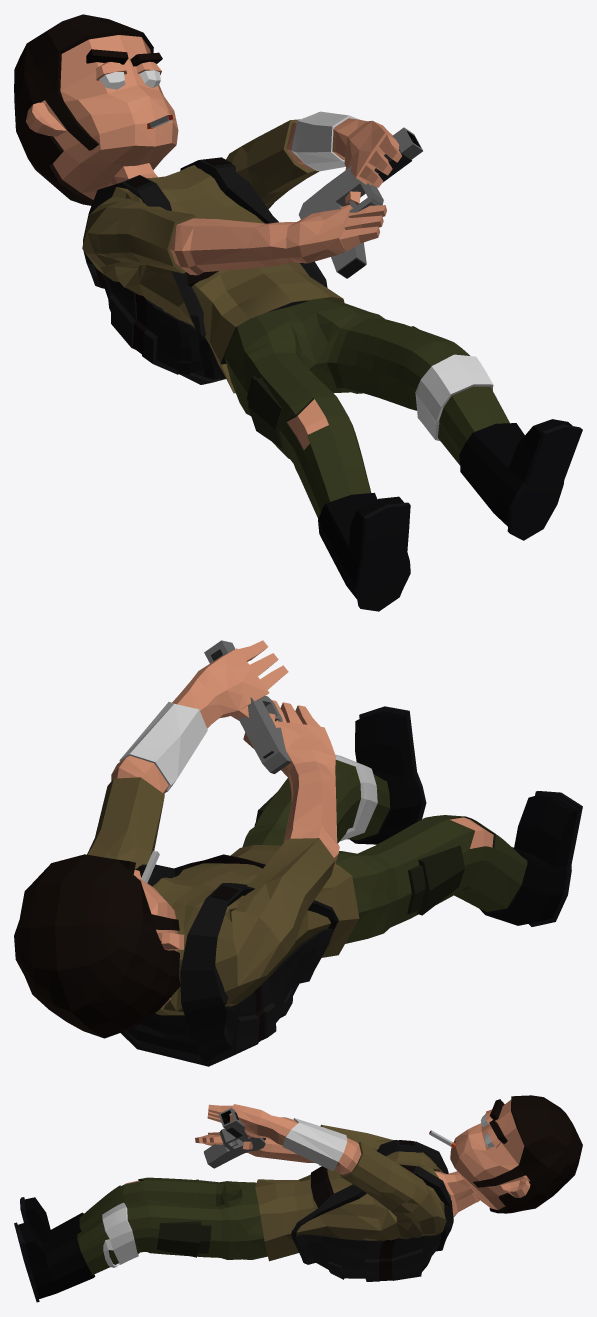
The model's file is frame_0040.obj.
3 views of the same model, one above another, from view 1: azimuth 30°, elevation 25°; view 2: azimuth 150°, elevation 25°; view 3: azimuth 270°, elevation 25° (orthographic). The views are drawn at different scales.
Parts seen in each view (by area): view 1: Body, Gun; view 2: Body, Gun; view 3: Body, Gun.
Boxes of the visible parts, x1,y1,x2,y2 form: Body: (14,14,582,611); Gun: (298,127,422,278); Body: (14,640,582,1066); Gun: (204,640,291,773); Body: (14,1095,582,1302); Gun: (204,1108,265,1168).
Bounding box in the file's own units: 1.22 × 1.84 × 4.14.
